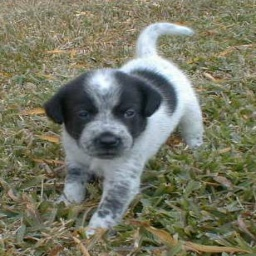dog: (41, 28, 212, 224)
